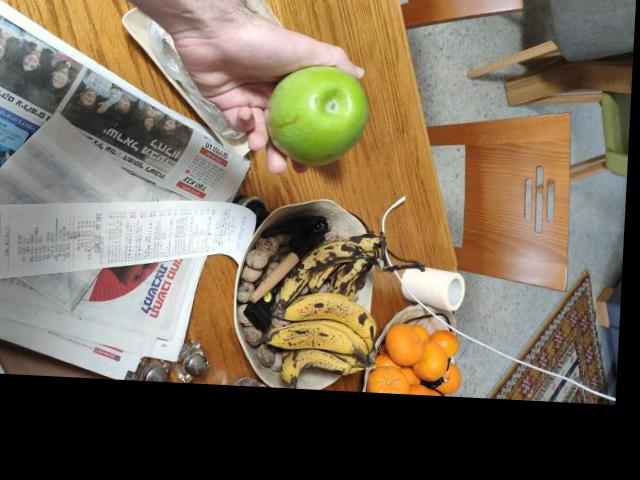apple: (264, 64, 371, 169)
